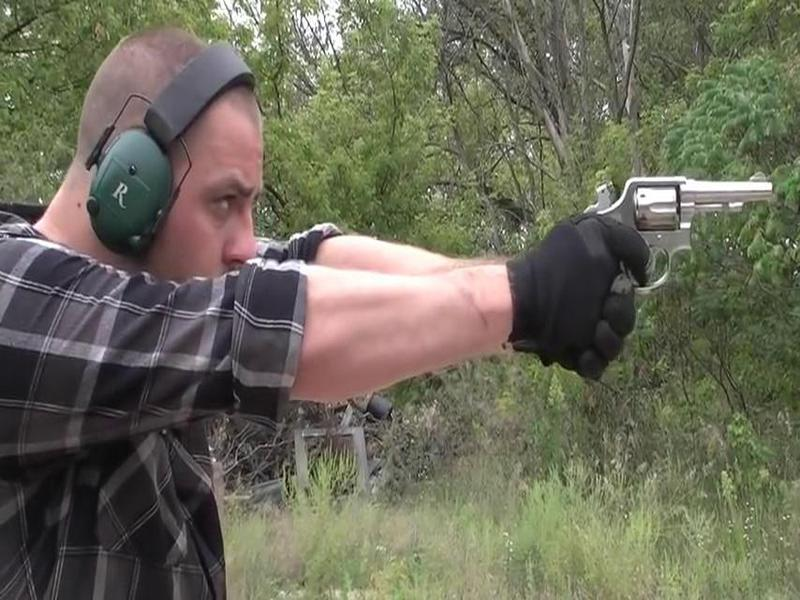Revolver: (571, 156, 794, 298)
